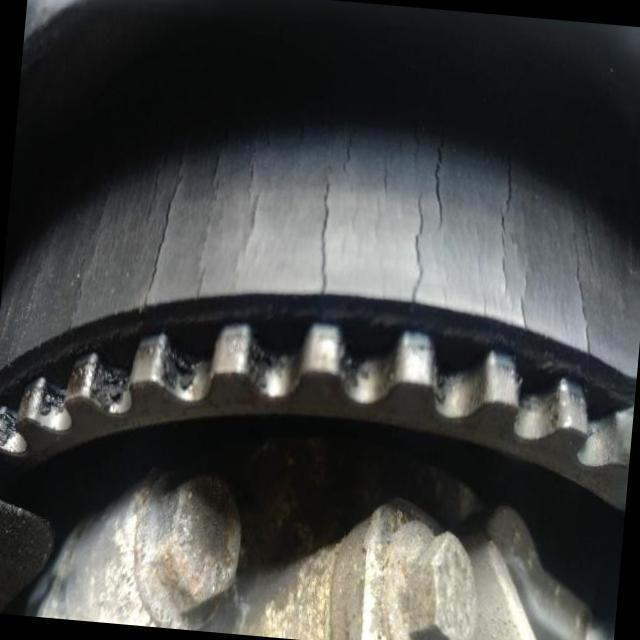Tear: (138, 164, 196, 308), (563, 229, 598, 356), (310, 170, 339, 299), (494, 154, 517, 299), (405, 188, 428, 302), (430, 130, 448, 234), (339, 126, 360, 173)
